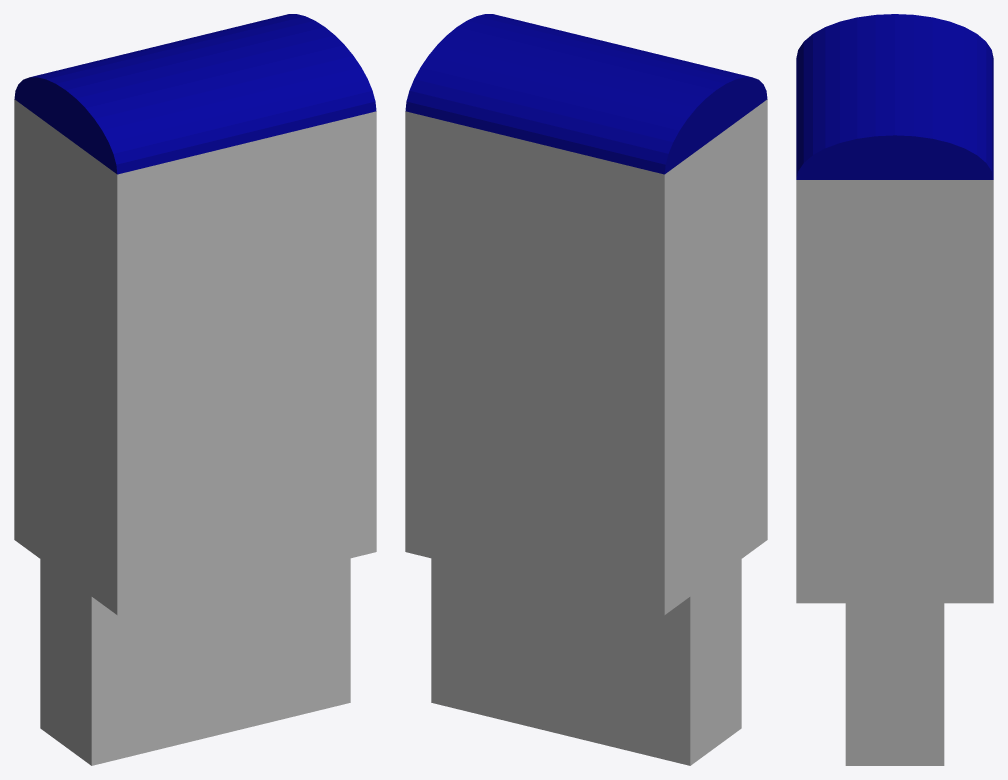
Rendered from body_r_distal_pinvround.obj.
3 views of the same model, side by side, from view 1: azimuth 30°, elevation 25°; view 2: azimuth 150°, elevation 25°; view 3: azimuth 270°, elevation 25° (orthographic). The views are drawn at different scales.
Parts seen in each view (by area): view 1: body_r_distal_pinvround_Cube.007; view 2: body_r_distal_pinvround_Cube.007; view 3: body_r_distal_pinvround_Cube.007.
Part boxes in pixels (x1,y1,x2,y2): body_r_distal_pinvround_Cube.007: (14, 14, 376, 765); body_r_distal_pinvround_Cube.007: (405, 14, 767, 765); body_r_distal_pinvround_Cube.007: (796, 14, 993, 765).
Size of the model in its own units: 0.032 by 0.0775 by 0.022.
